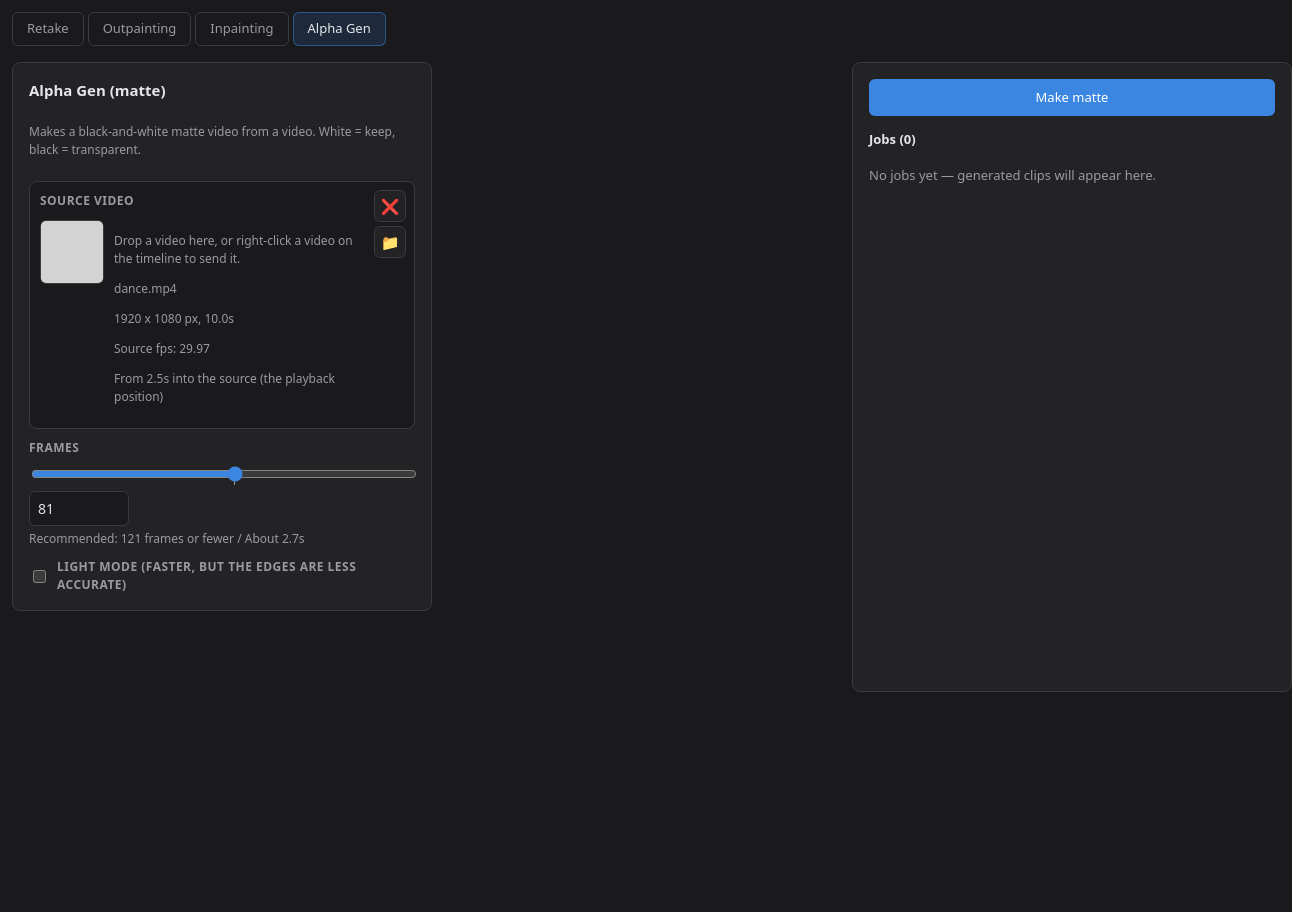
Test case: EditScreen — Alpha Gen サブタブ › 線を超えたときだけ注意を出す（軽量モード OFF は Create と同じ文・線の説明文は無い）
Expected: the text "Generation may slow down because of VRAM overflow." is not shown
Step 1. Set the slider labelled "Frames Recommended: 121 frames or fewer / About 2.7s" to "89" → (257, 474), box top-left (31, 463), bottom-right (417, 485)
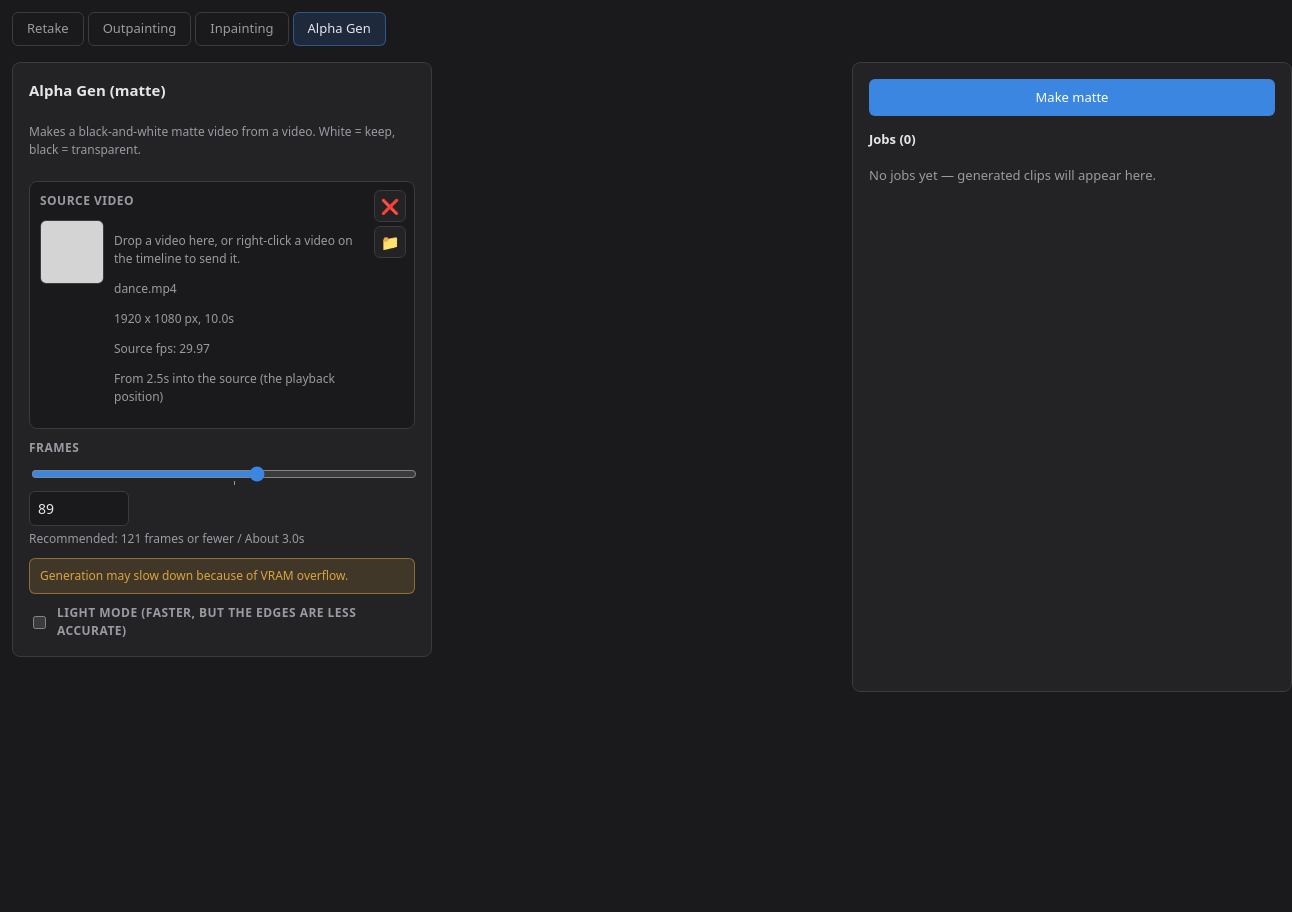
Now the text "Generation may slow down because of VRAM overflow." is shown, box top-left (29, 558), bottom-right (415, 594)
Step 2. Set the slider to "81" → (235, 474), box top-left (31, 463), bottom-right (417, 485)
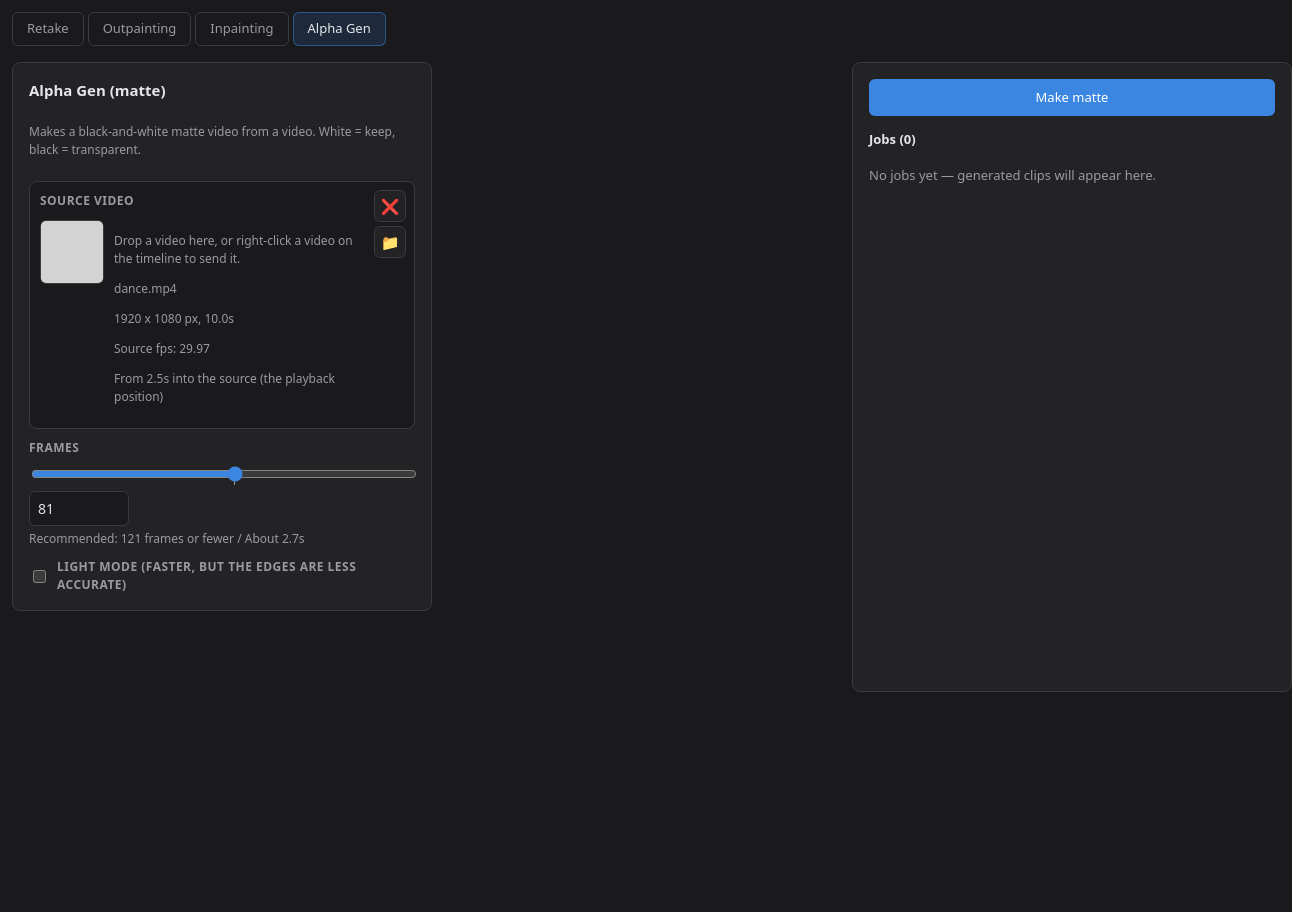
Now the text "Generation may slow down because of VRAM overflow." is gone
